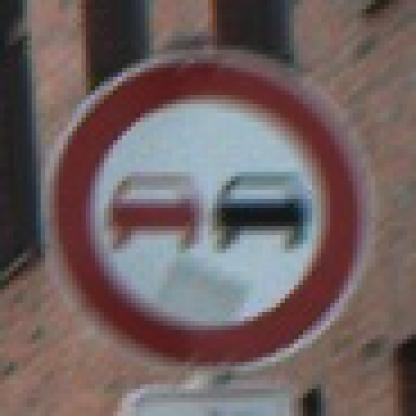No Overtaking: (37, 42, 381, 381)
